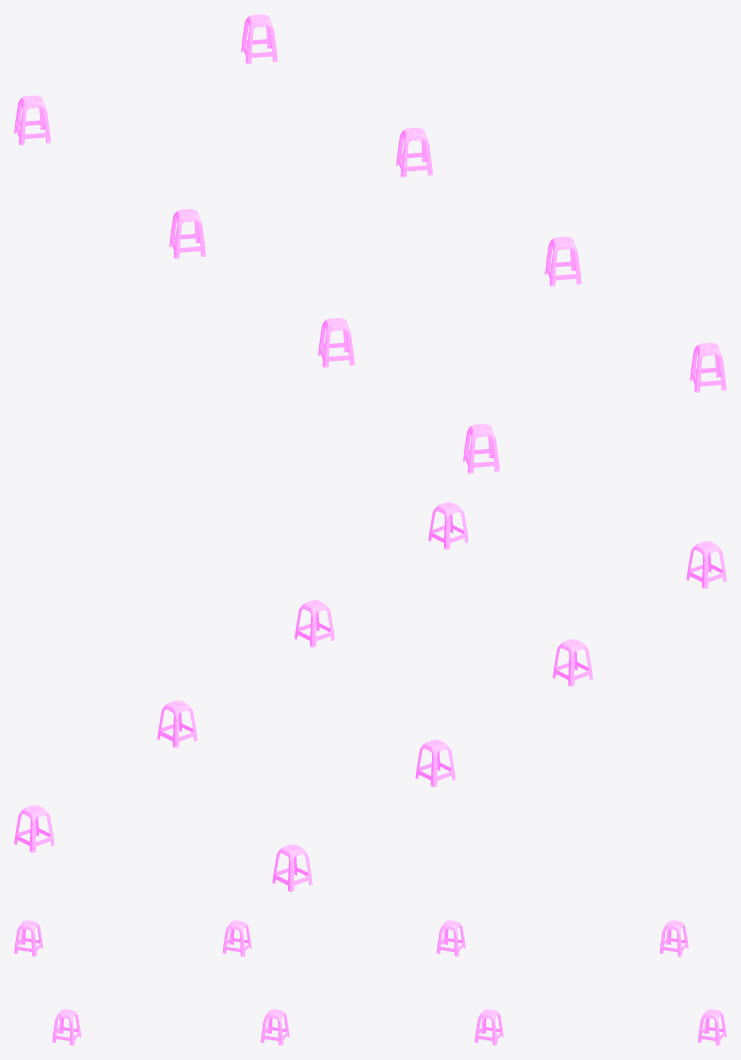
File: chair.glb
The picture shows the model from 3 angles, top to bottom: view 1: azimuth 30°, elevation 25°; view 2: azimuth 150°, elevation 25°; view 3: azimuth 270°, elevation 25°; orthographic projection. The views are drawn at different scales.
Visible parts, largest first — view 1: chair, chair.004, chair.002, chair.005, chair.001, chair.006, chair.007, chair.003; view 2: chair.001, chair.002, chair, chair.004, chair.003, chair.006, chair.005, chair.007; view 3: chair.001, chair.006, chair, chair.002, chair.003, chair.004, chair.005, chair.007.
Part boxes in pixels (left/top/right/bottom): chair: left=463, top=424, right=499, bottom=473; chair.004: left=689, top=342, right=726, bottom=392; chair.002: left=169, top=209, right=206, bottom=258; chair.005: left=544, top=236, right=581, bottom=286; chair.001: left=318, top=318, right=354, bottom=367; chair.006: left=396, top=127, right=433, bottom=177; chair.007: left=241, top=14, right=277, bottom=63; chair.003: left=14, top=95, right=51, bottom=145; chair.001: left=552, top=639, right=593, bottom=686; chair.002: left=415, top=739, right=455, bottom=786; chair: left=686, top=541, right=726, bottom=588; chair.004: left=428, top=502, right=468, bottom=549; chair.003: left=272, top=844, right=312, bottom=891; chair.006: left=157, top=700, right=197, bottom=747; chair.005: left=294, top=600, right=334, bottom=647; chair.007: left=14, top=805, right=54, bottom=852; chair.001: left=222, top=920, right=251, bottom=956; chair.006: left=474, top=1009, right=503, bottom=1045; chair: left=14, top=920, right=43, bottom=956; chair.002: left=436, top=920, right=465, bottom=956; chair.003: left=659, top=920, right=688, bottom=956; chair.004: left=52, top=1009, right=81, bottom=1045; chair.005: left=260, top=1009, right=289, bottom=1045; chair.007: left=697, top=1009, right=726, bottom=1045.
Size of the model in its own units: 8.98 by 1.13 by 26.71.
